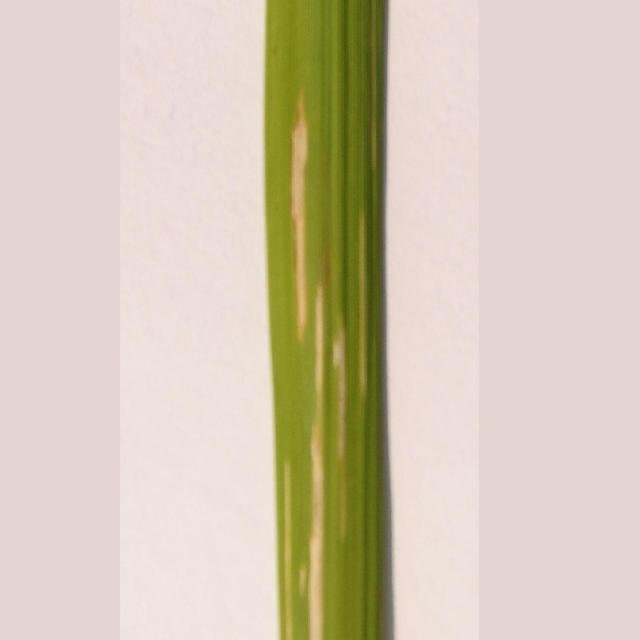Bacterial_Leaf_Blight: (259, 112, 397, 627)
